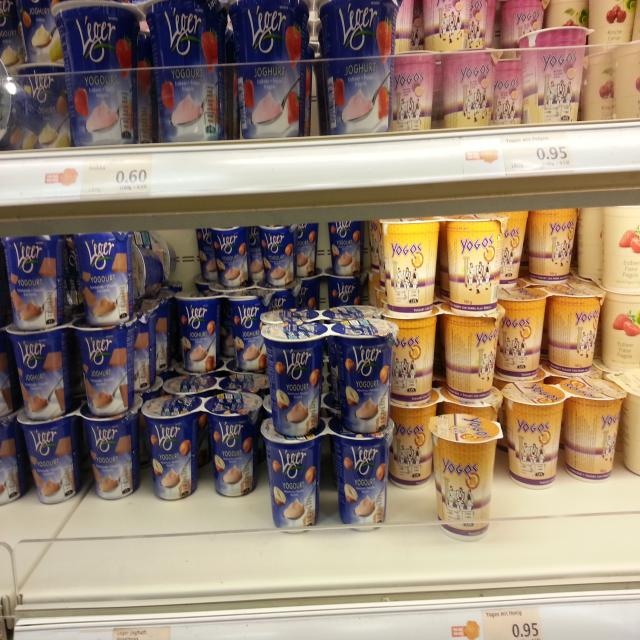Yoghurt: (258, 306, 398, 433), (141, 370, 274, 501), (259, 416, 396, 531), (491, 377, 633, 486), (48, 0, 147, 149), (0, 321, 144, 422), (16, 396, 143, 504), (6, 228, 132, 327), (379, 216, 507, 313), (232, 0, 319, 142), (150, 0, 231, 152), (380, 306, 504, 403), (492, 279, 610, 375), (384, 46, 506, 136), (321, 0, 399, 134), (424, 410, 500, 541), (168, 286, 272, 372), (520, 27, 590, 132), (214, 222, 299, 291)
